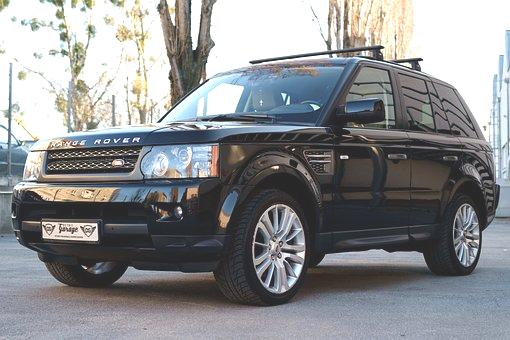range rover: (47, 133, 146, 151)
